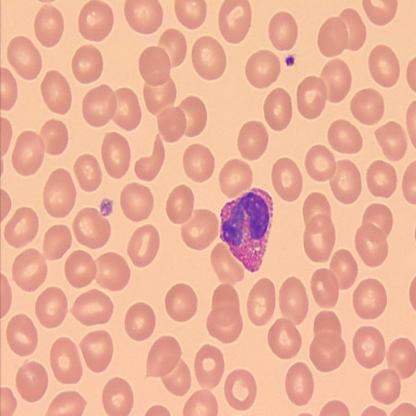Eosinophil: (220, 188, 275, 272)
